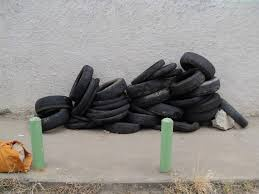tire: (216, 96, 249, 129), (179, 51, 217, 76), (68, 64, 94, 99), (170, 69, 206, 93), (32, 108, 70, 129), (92, 80, 129, 100), (32, 95, 75, 112), (71, 81, 93, 114), (124, 80, 166, 94)
